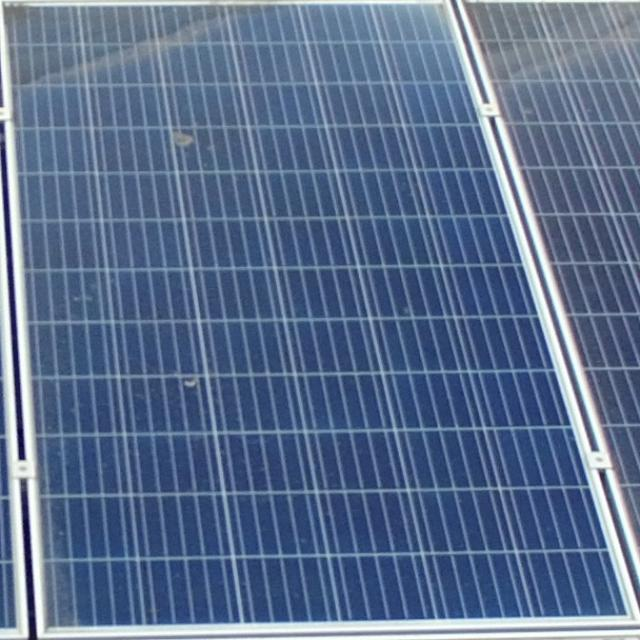Dust: (0, 0, 239, 121), (444, 0, 640, 101), (17, 454, 71, 640)
bird-droppings: (144, 125, 204, 163), (164, 359, 215, 400)
